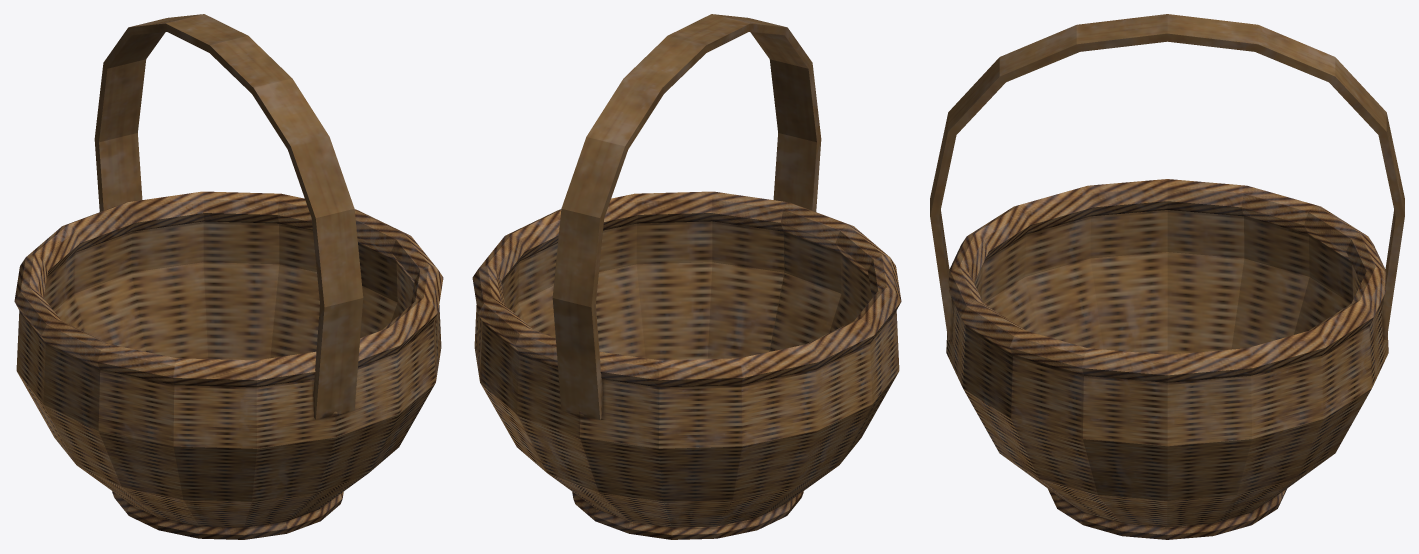
File: Basket.fbx
The picture shows the model from 3 angles, left to right: view 1: azimuth 30°, elevation 25°; view 2: azimuth 150°, elevation 25°; view 3: azimuth 270°, elevation 25°; orthographic projection. The views are drawn at different scales.
Visible parts, largest first — view 1: Basket; view 2: Basket; view 3: Basket.
Part boxes in pixels (x1,y1,x2,y2): Basket: [14, 14, 443, 539]; Basket: [472, 14, 901, 539]; Basket: [930, 14, 1404, 539].
Bounding box in the file's own units: 45.83 × 52.71 × 48.69.
Materials: 1 (1 with a texture image).
